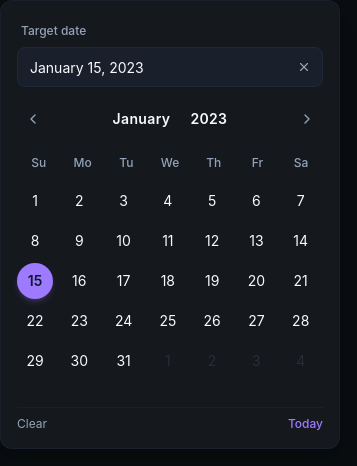
Test: Calendar Component › navigates prev month
Click the button with class "lucide-chevron-left". click: (33, 119)
box: [21,107,45,131]
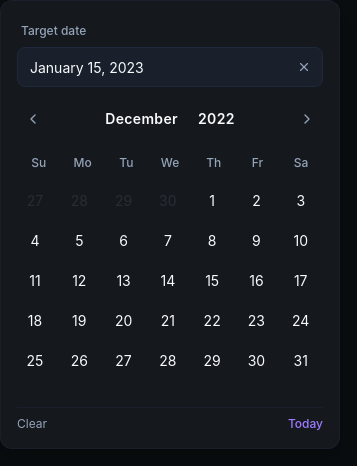
Expected: the button "December" is shown, [97,107,186,131]
Expected: the button "2022" is shown, [190,107,243,131]
